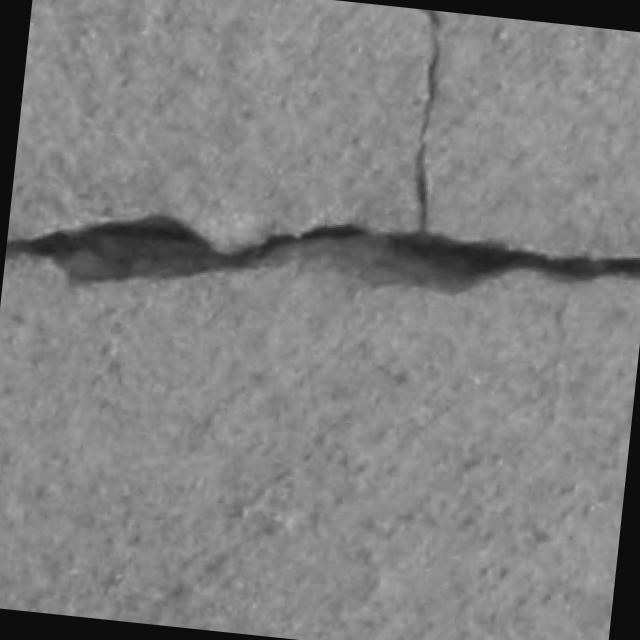crack: (5, 215, 639, 293), (413, 9, 441, 232)
